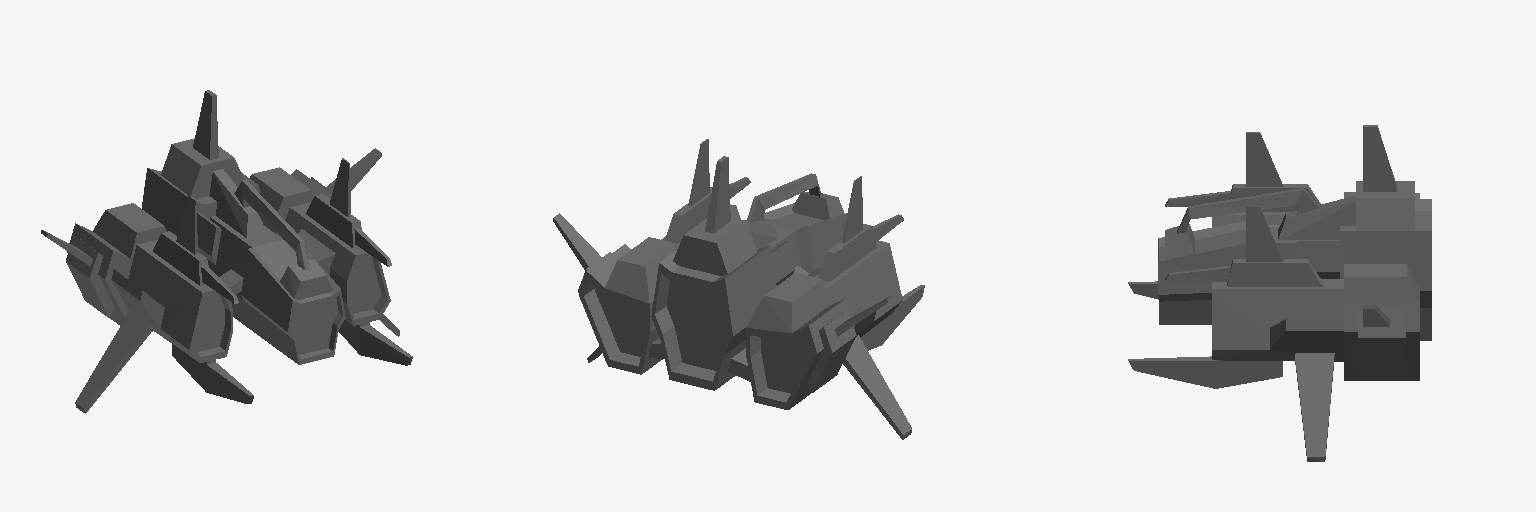
3 views of the same model, side by side, from view 1: azimuth 30°, elevation 25°; view 2: azimuth 150°, elevation 25°; view 3: azimuth 270°, elevation 25° (orthographic).
Parts seen in each view (by area): view 1: af2_attack_dro.001; view 2: af2_attack_dro.001; view 3: af2_attack_dro.001.
Boxes of the visible parts, x1=… form: af2_attack_dro.001: x1=41, y1=90, x2=412, y2=413; af2_attack_dro.001: x1=553, y1=139, x2=924, y2=439; af2_attack_dro.001: x1=1128, y1=125, x2=1431, y2=461.
Bounding box in the file's own units: 3.67 × 2.72 × 2.88.